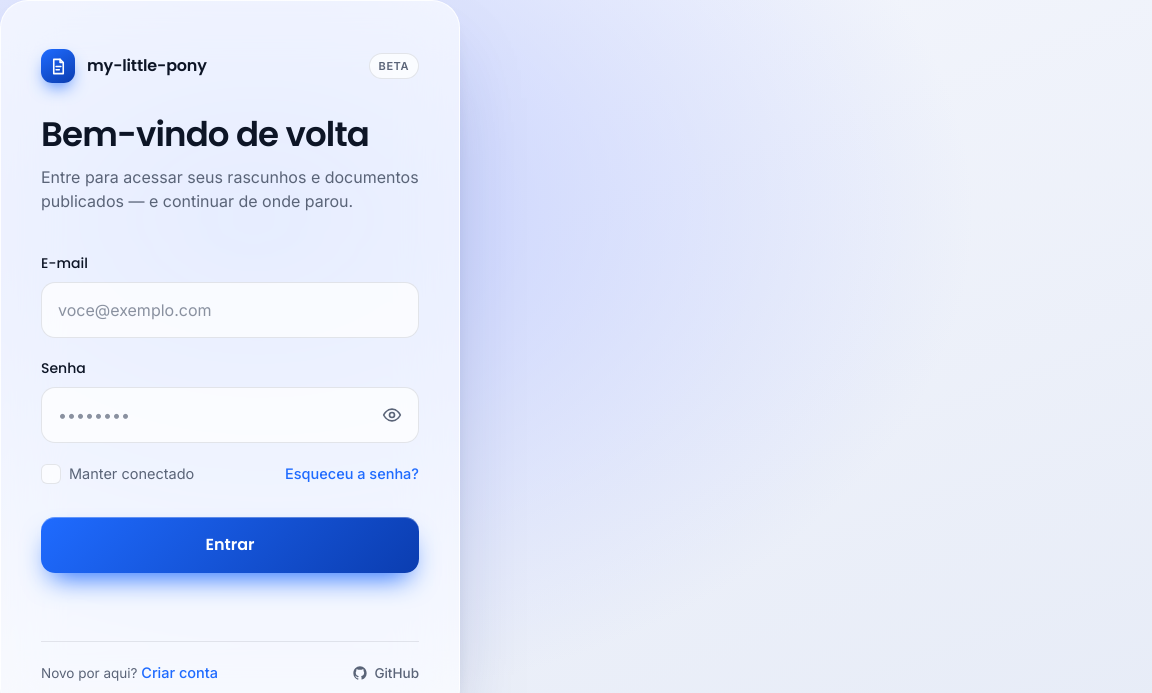
Scenario: LoginForm › alterna para o cadastro (mostra o campo Nome)
Expected: the field labelled "Nome" is not shown
Click the button "Criar conta": (180, 673) [141,662,218,684]
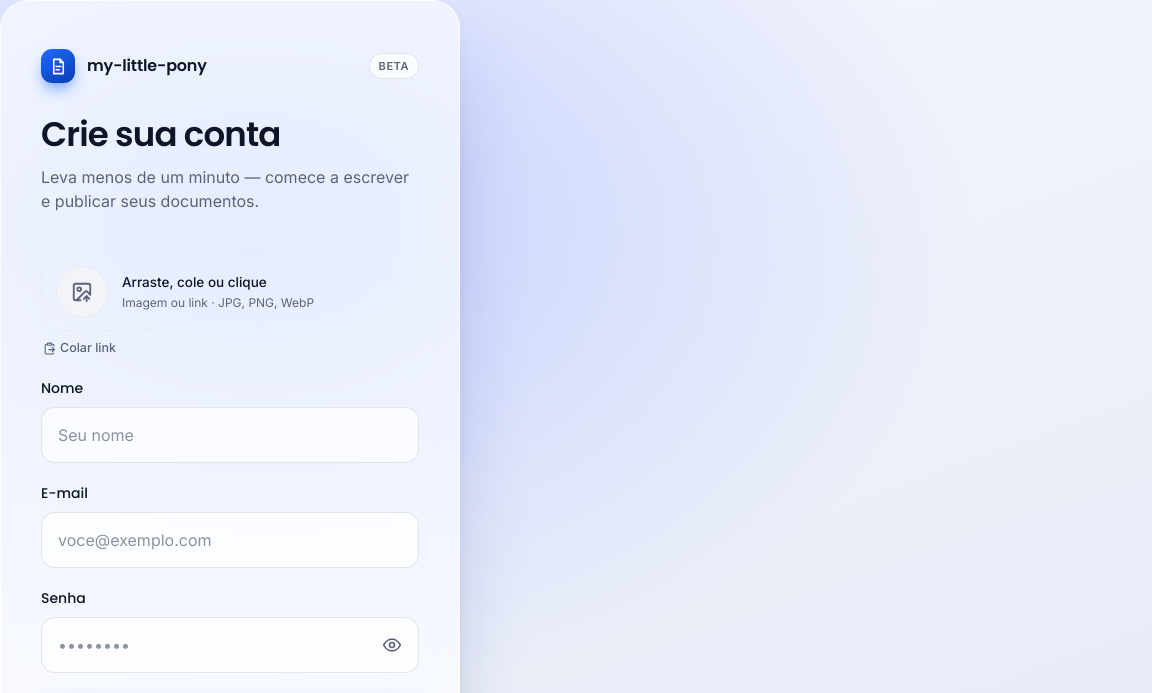
Expected: the field labelled "Nome" is shown, [41,407,419,463]
